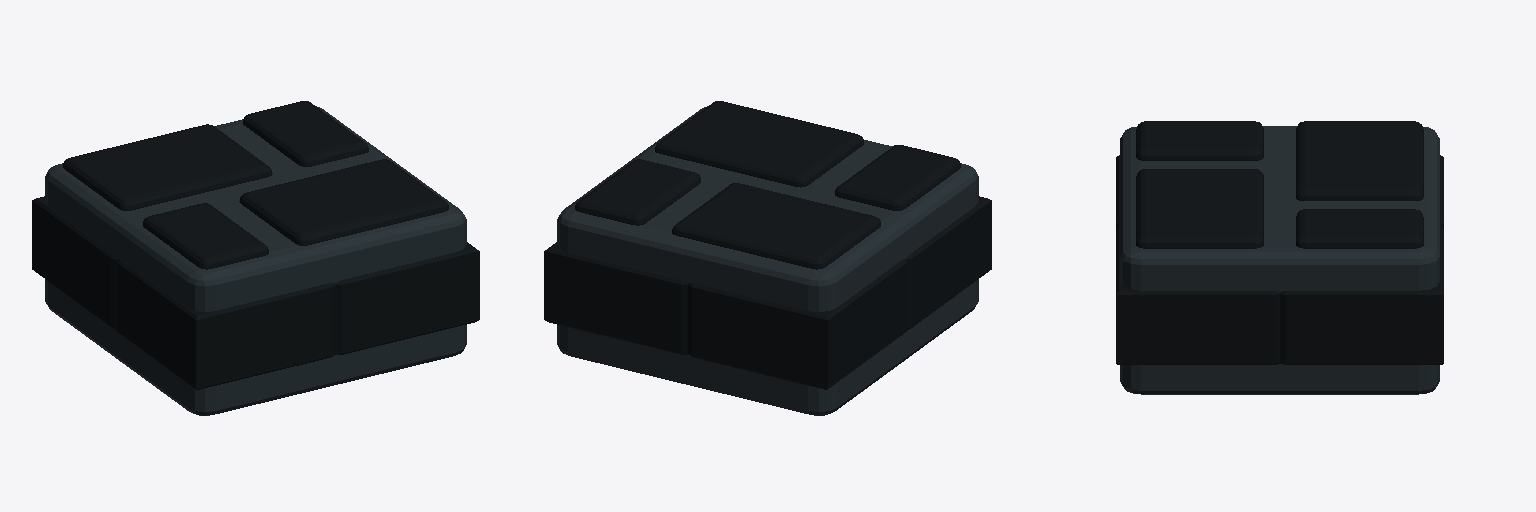
File: tileBrickA_small.obj
3 renders of one model, left to right at view 1: azimuth 30°, elevation 25°; view 2: azimuth 150°, elevation 25°; view 3: azimuth 270°, elevation 25°, orthographic.
Parts seen in each view (by area): view 1: tileBrickA_small_Cube.2536; view 2: tileBrickA_small_Cube.2536; view 3: tileBrickA_small_Cube.2536.
Part boxes in pixels (bbox=[...]): tileBrickA_small_Cube.2536: bbox=[32, 101, 479, 415]; tileBrickA_small_Cube.2536: bbox=[544, 101, 991, 415]; tileBrickA_small_Cube.2536: bbox=[1116, 121, 1443, 394].
Size of the model in its own units: 2.05 by 1.06 by 2.05.